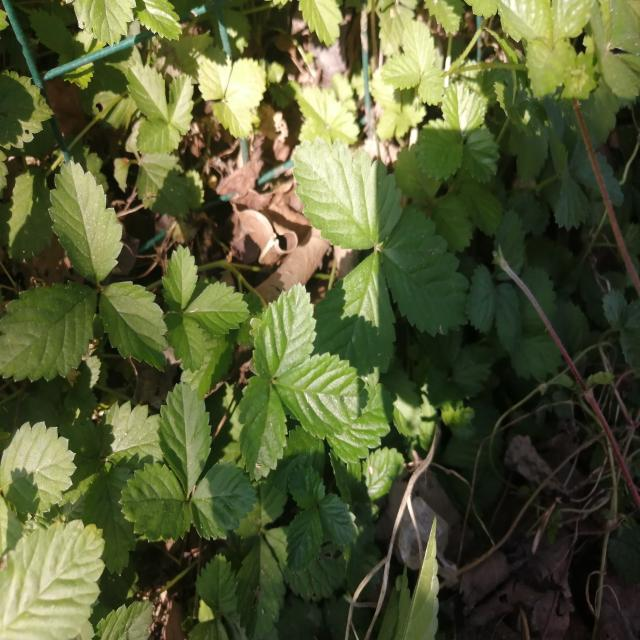Mock_strawberry: (0, 146, 197, 399), (284, 111, 461, 347), (239, 283, 381, 487), (102, 376, 262, 556)
